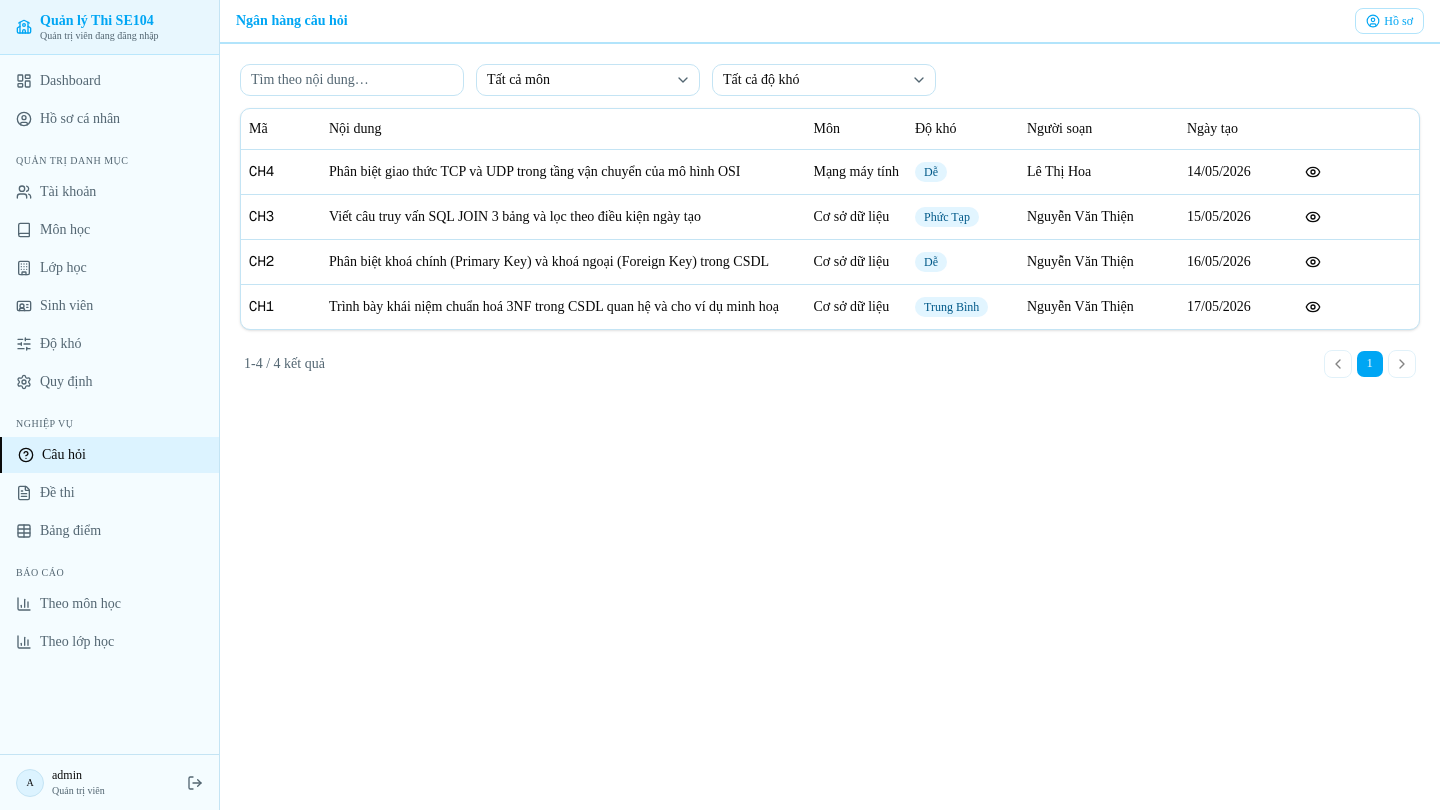
Test: QuestionsPage › filter by subject narrows the result set
Expected: the text "3NF" is shown, [329,298,779,314]
Expected: the text "TCP và UDP" is shown, [329,164,740,178]
Note: first select is "Tất cả môn"
Click the dropdown labelled "Tất cả môn ▼".
click(588, 80)  # box [476,64,700,96]
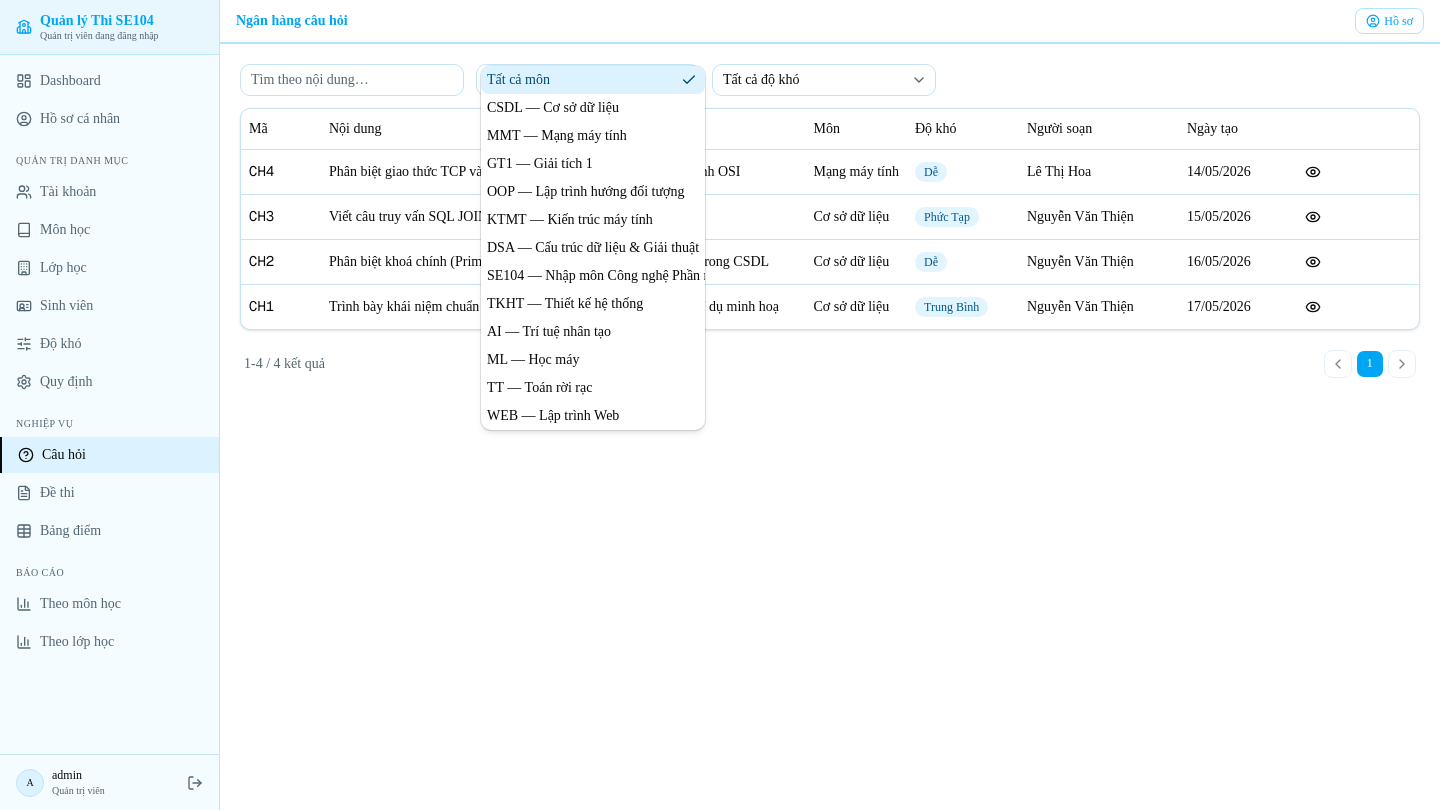
Expected: the option "CSDL — Cơ sở dữ liệu" is shown
Click the option "CSDL — Cơ sở dữ liệu".
click(553, 108)  # box [487,100,619,115]
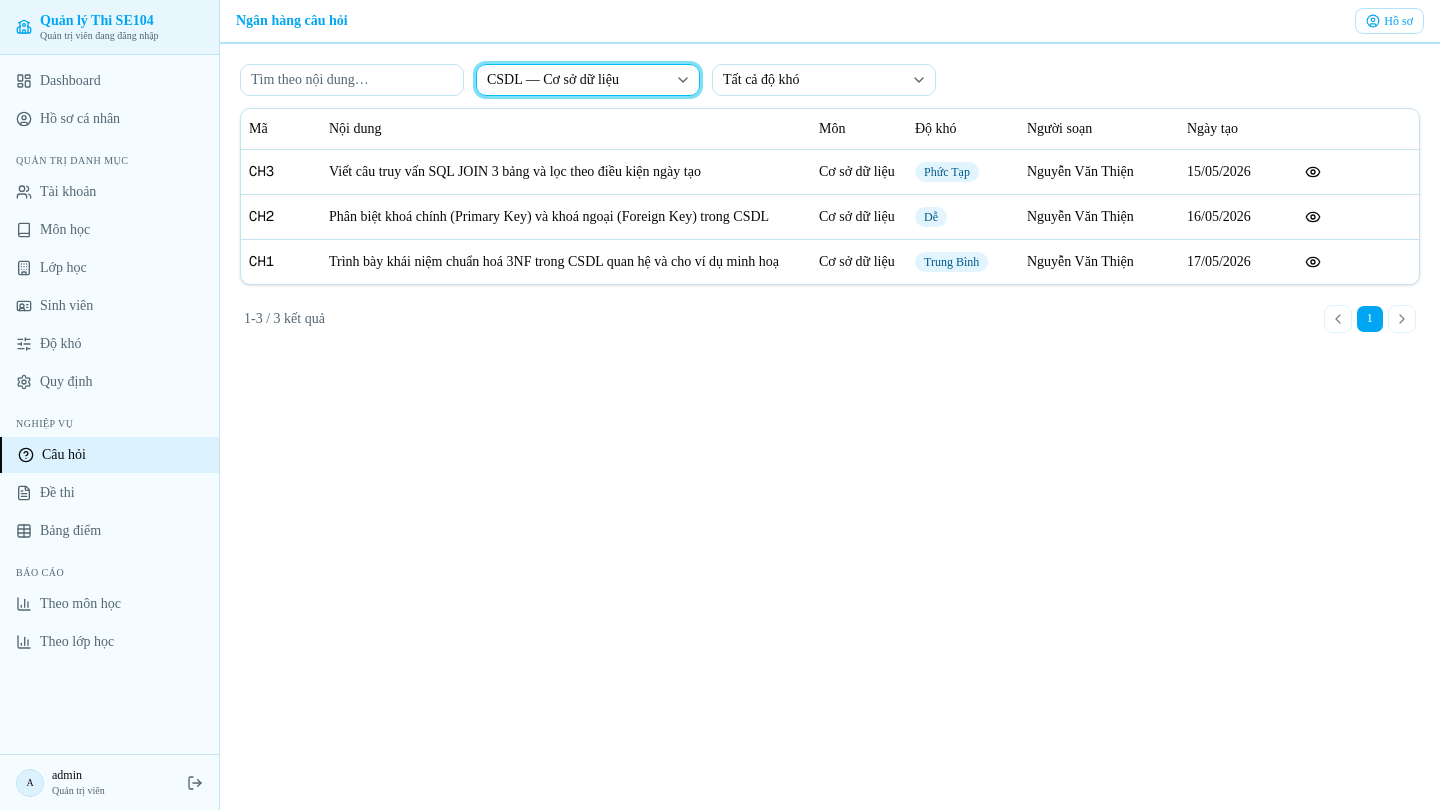
Expected: the text "3NF" is shown, [329,254,779,268]
Expected: the text "TCP và UDP" is gone
